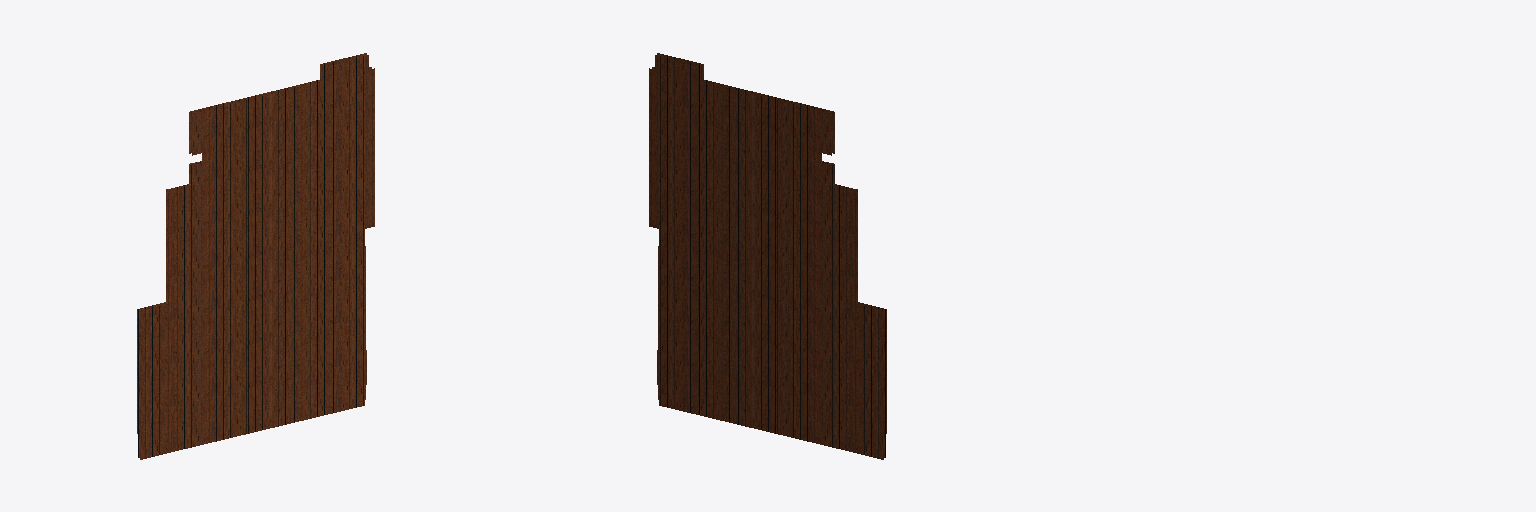
The picture shows the model from 3 angles: view 1: azimuth 30°, elevation 25°; view 2: azimuth 150°, elevation 25°; view 3: azimuth 270°, elevation 25°; orthographic projection.
Parts seen in each view (by area): view 1: floor_11; view 2: floor_11; view 3: none.
Boxes of the visible parts, x1,y1,x2,y2 form: floor_11: [137, 53, 374, 459]; floor_11: [649, 53, 886, 459].
Size of the model in its own units: 5.71 by 8.11 by 0.1.
1 materials, 1 textured.